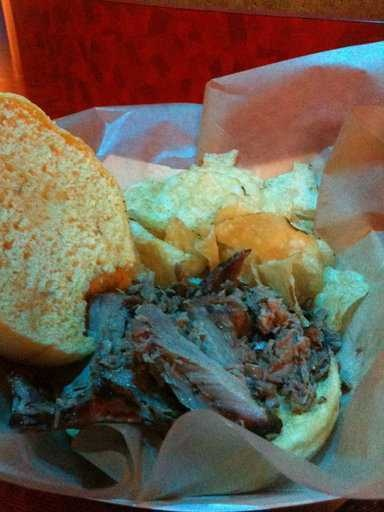hamburger: (1, 128, 352, 433)
